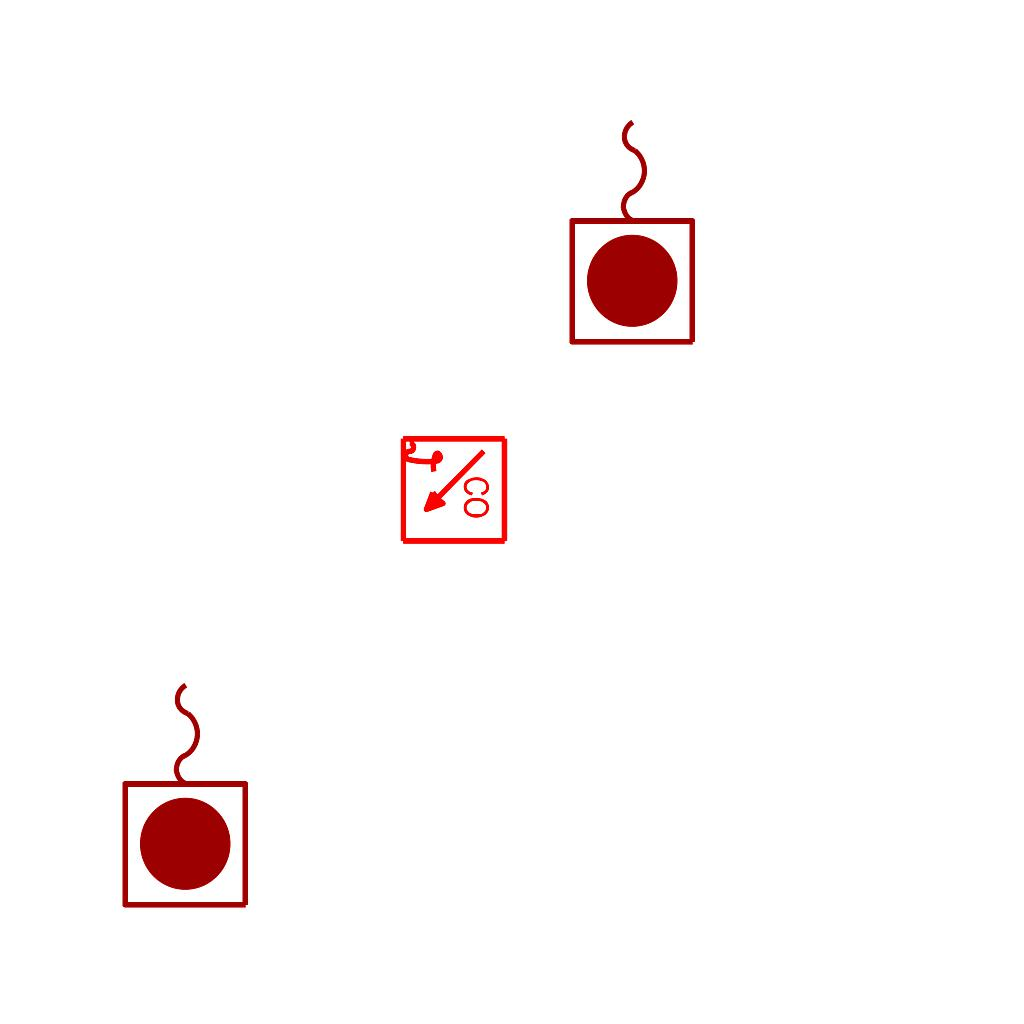ROA_Rauchmelder_optisch_mit_Signalgeber_(Sockelsirene): (396, 434, 509, 547)
Zugtaster: (562, 109, 706, 353), (115, 672, 259, 916)
